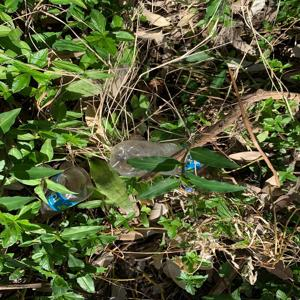plastic: (35, 170, 110, 214)
plastic bottle: (103, 130, 203, 180)
